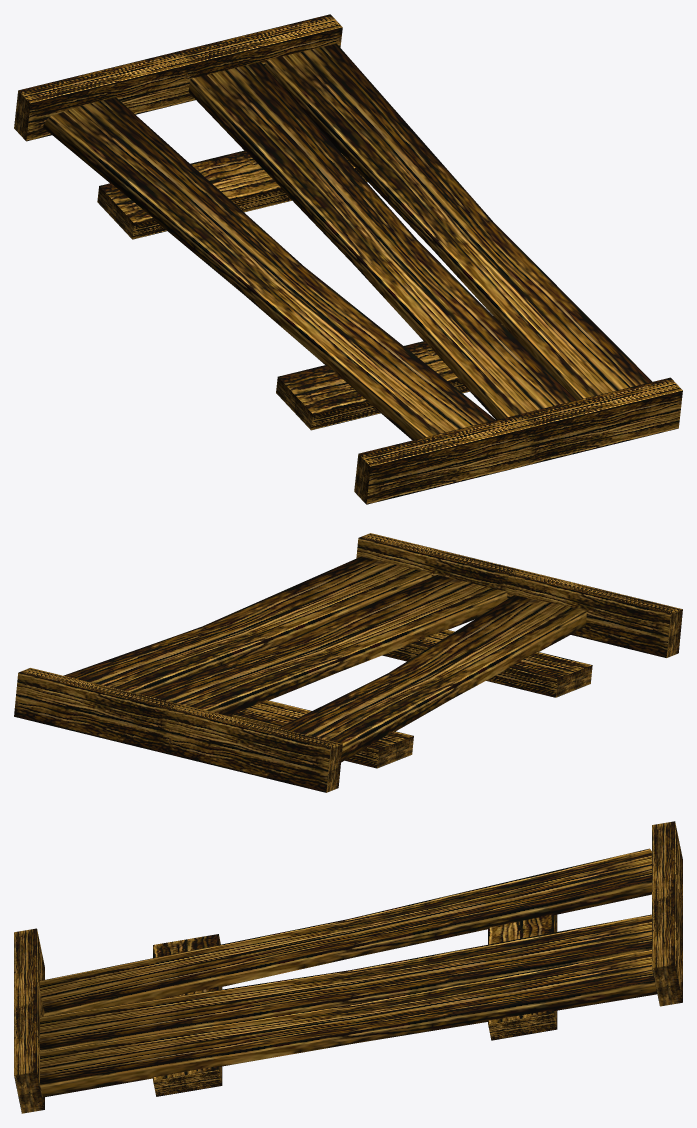
Rendered from RM_WPOOL_PLATFORM02.fbx.
3 renders of one model, top to bottom at view 1: azimuth 30°, elevation 25°; view 2: azimuth 150°, elevation 25°; view 3: azimuth 270°, elevation 25°, orthographic. The views are drawn at different scales.
Visible parts, largest first — view 1: RM_WPOOL_PLATFORM02; view 2: RM_WPOOL_PLATFORM02; view 3: RM_WPOOL_PLATFORM02.
Part boxes in pixels (<box>): RM_WPOOL_PLATFORM02: <box>14,14,682,504</box>; RM_WPOOL_PLATFORM02: <box>14,533,682,792</box>; RM_WPOOL_PLATFORM02: <box>14,821,682,1113</box>.
Size of the model in its own units: 18013 by 8785 by 35621.
Materials: 1 (1 with a texture image).
